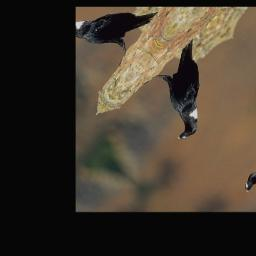Crow: (128, 34, 245, 145)
